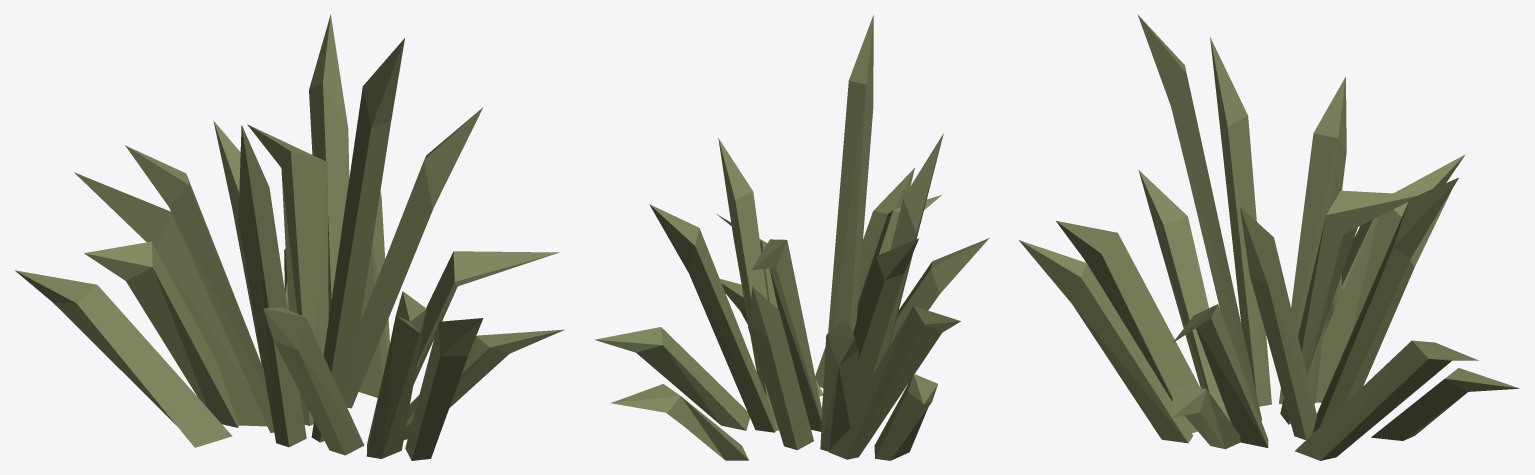
The model's file is worlds_SM_Gerneric_Grass_Patch_03.gltf.
3 renders of one model, left to right at view 1: azimuth 30°, elevation 25°; view 2: azimuth 150°, elevation 25°; view 3: azimuth 270°, elevation 25°, orthographic. The views are drawn at different scales.
Parts seen in each view (by area): view 1: SM_Gerneric_Grass_Patch_03; view 2: SM_Gerneric_Grass_Patch_03; view 3: SM_Gerneric_Grass_Patch_03.
Boxes of the visible parts, x1,y1,x2,y2 form: SM_Gerneric_Grass_Patch_03: (15,14,564,460); SM_Gerneric_Grass_Patch_03: (594,15,989,460); SM_Gerneric_Grass_Patch_03: (1019,14,1519,460).
Bounding box in the file's own units: 1.11 × 1.16 × 1.29.
Materials: 1 (1 with a texture image).
